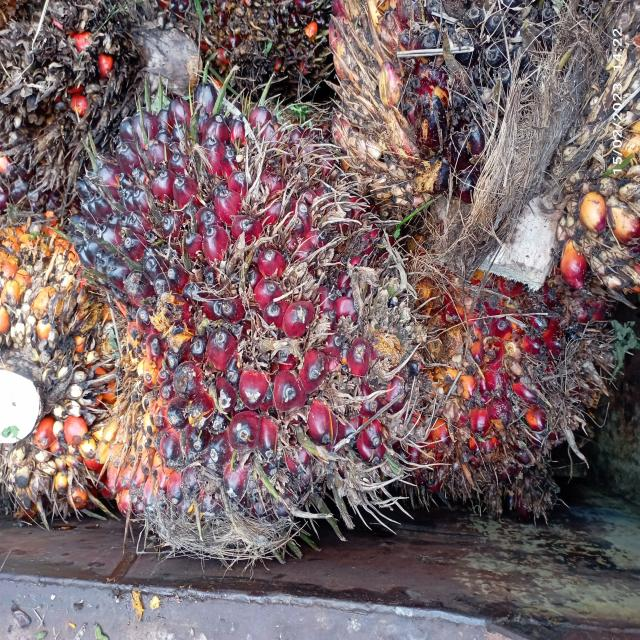fraksi 1: (86, 61, 423, 497)
fraksi 3: (354, 188, 590, 558)
